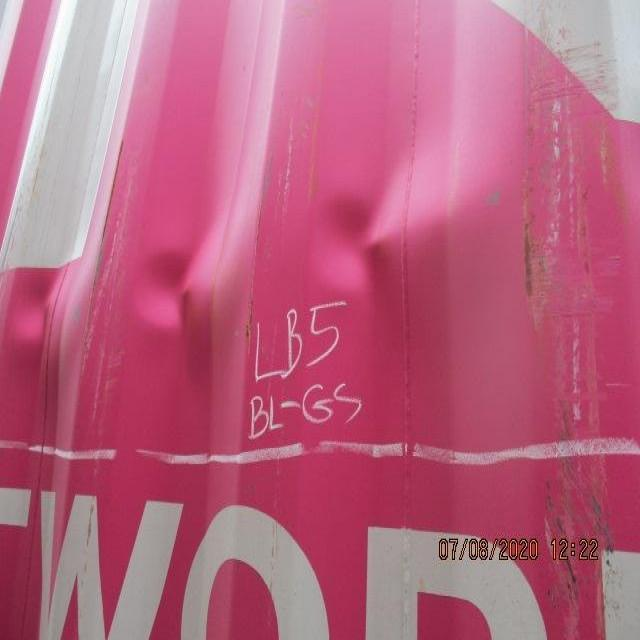Dent: (1, 106, 640, 546)
